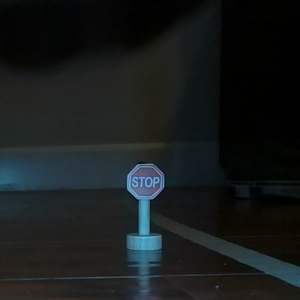stop sign: (122, 160, 169, 253)
